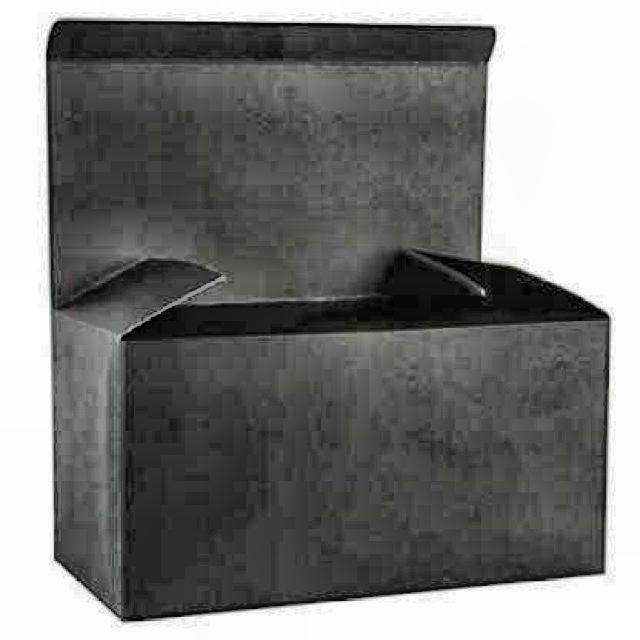Cardbox: (37, 8, 626, 616)
